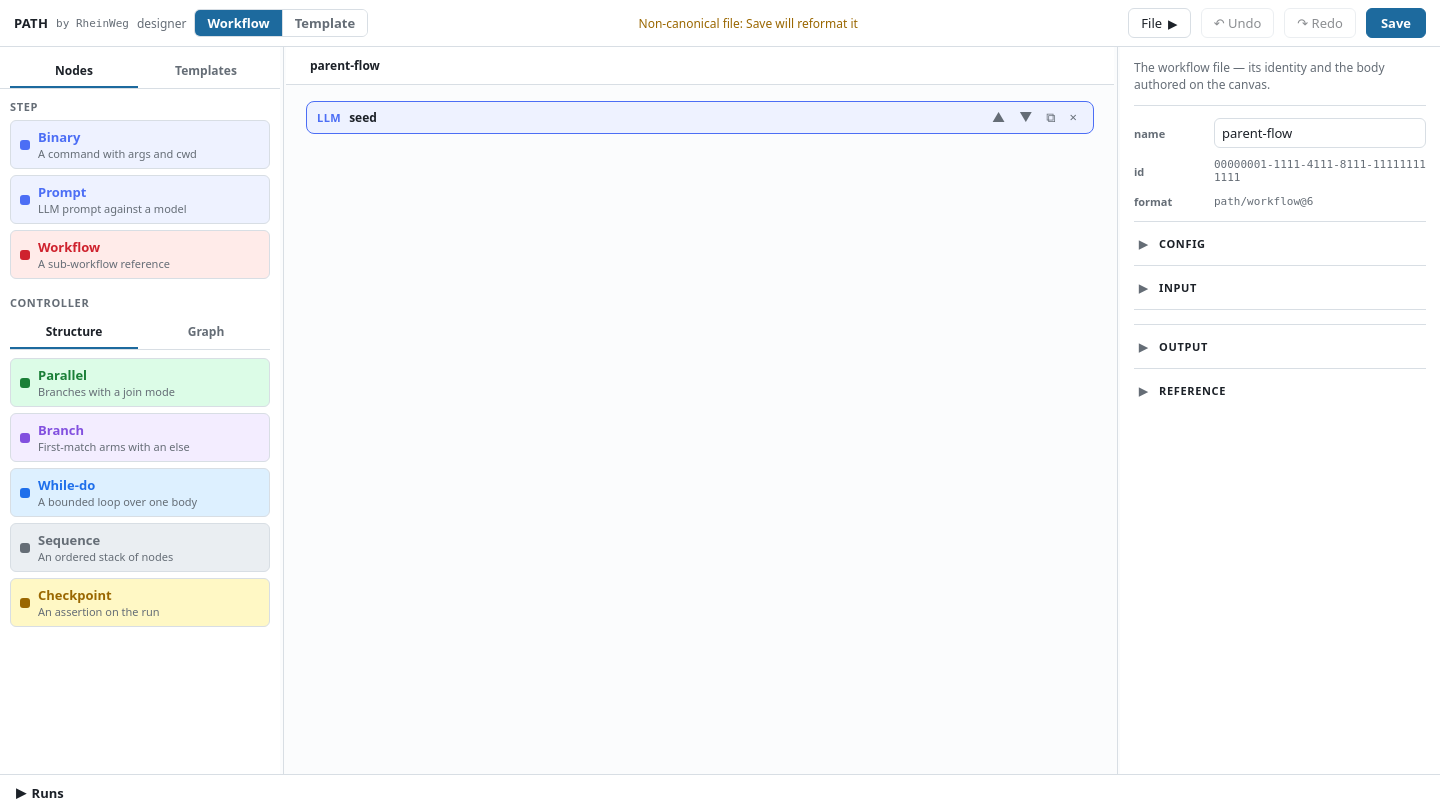
Test: adding a workflow-ref offers reference-existing or create-new › shows the two-way chooser for an empty ref node
Check: the text "seed" is shown, box [349, 109, 377, 126]
Click the text "Workflow" at (69, 247), box [38, 238, 100, 256]
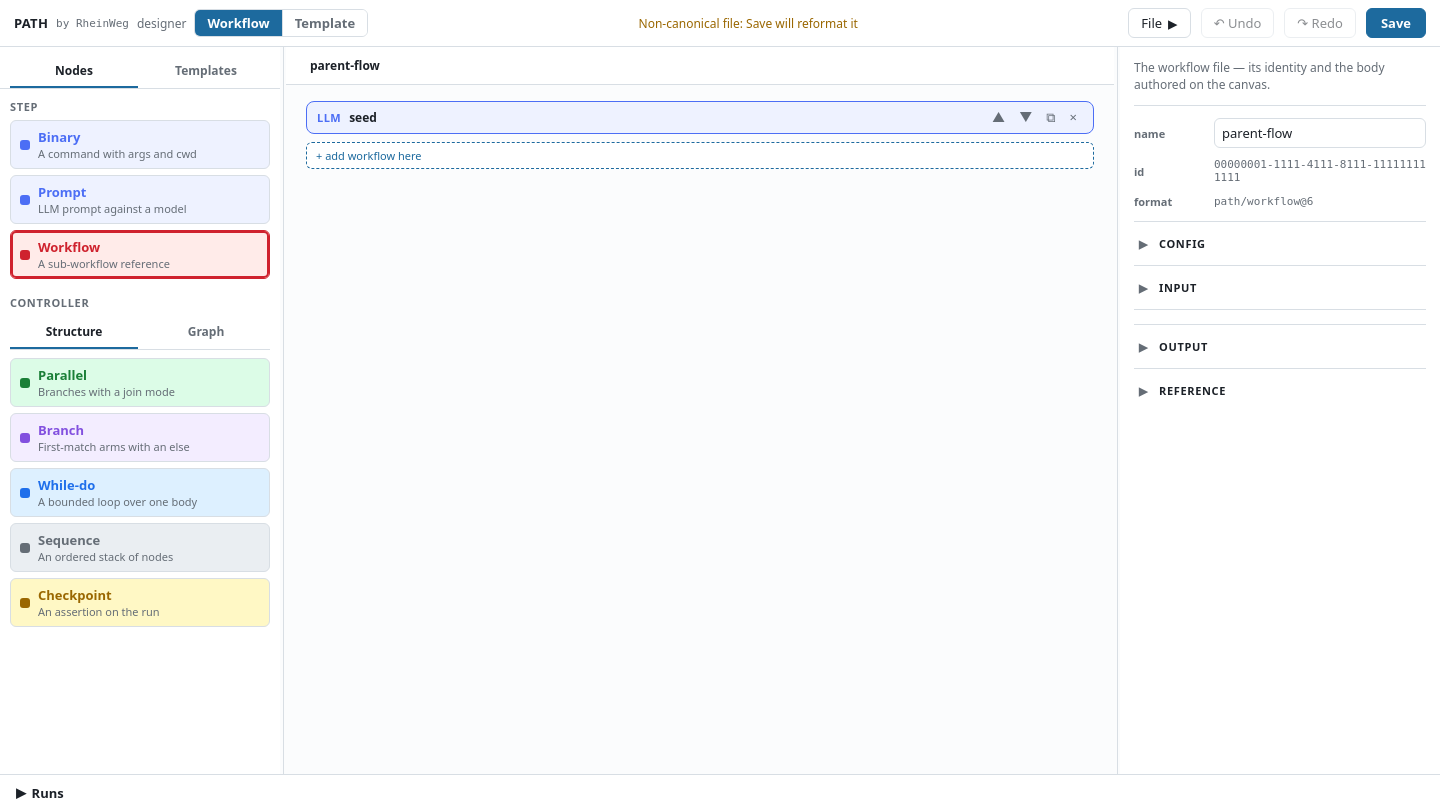
Click the button "+ add workflow here" at (369, 156), box [306, 142, 1094, 169]
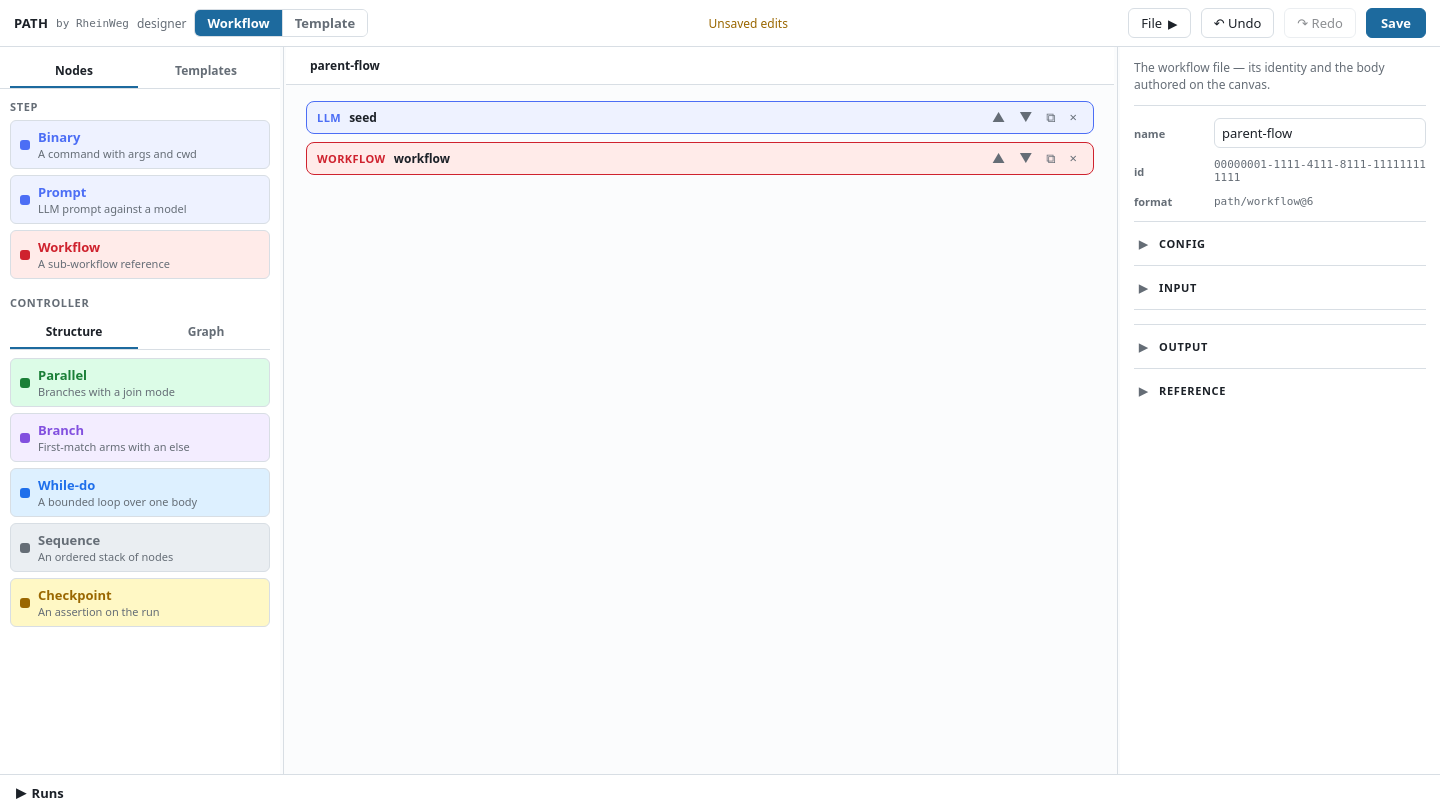
Click the button "WORKFLOW workflow ▲ ▼ ⧉ ×" at (351, 158), box [306, 142, 1094, 175]
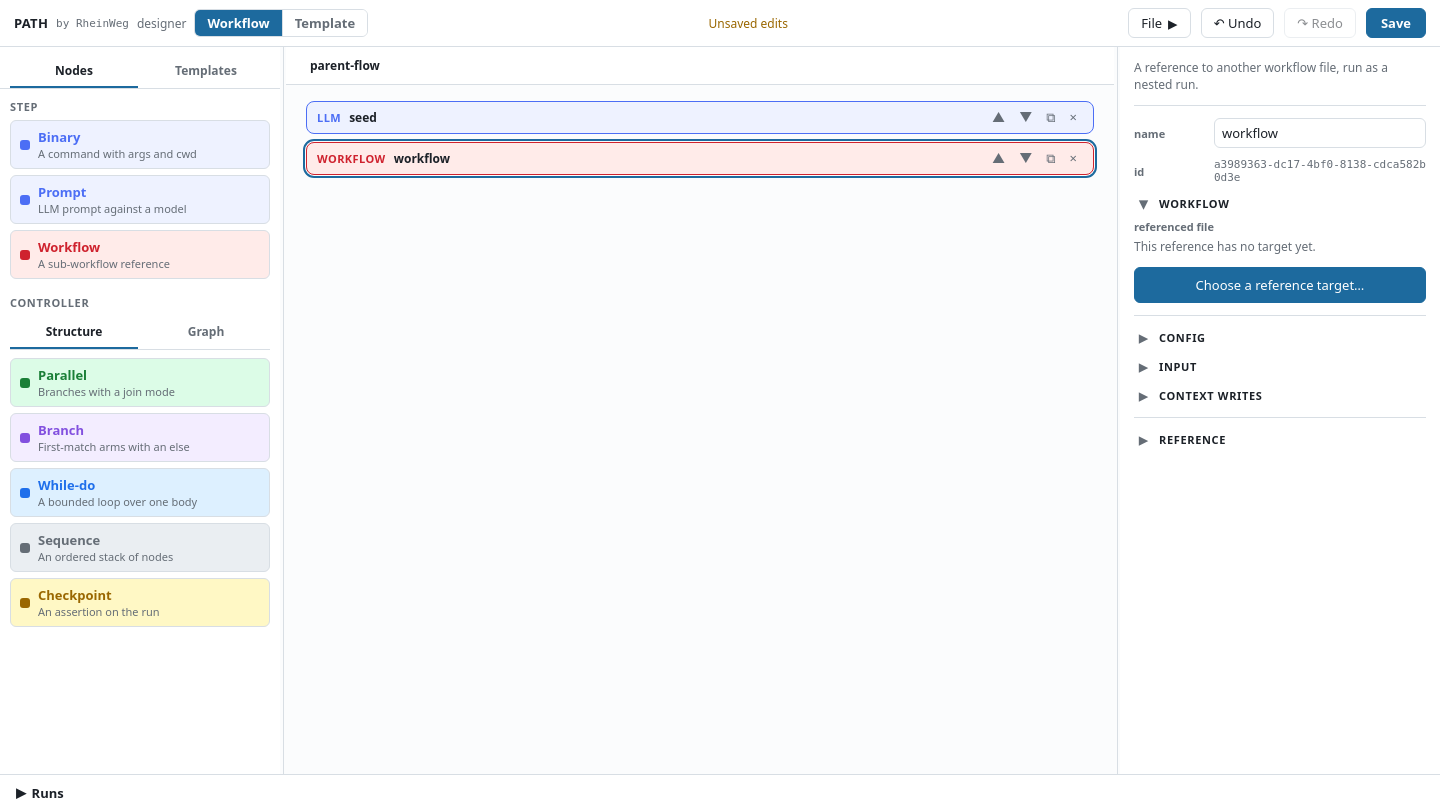
Click the button "Choose a reference target…" at (1280, 285), box [1134, 267, 1426, 303]
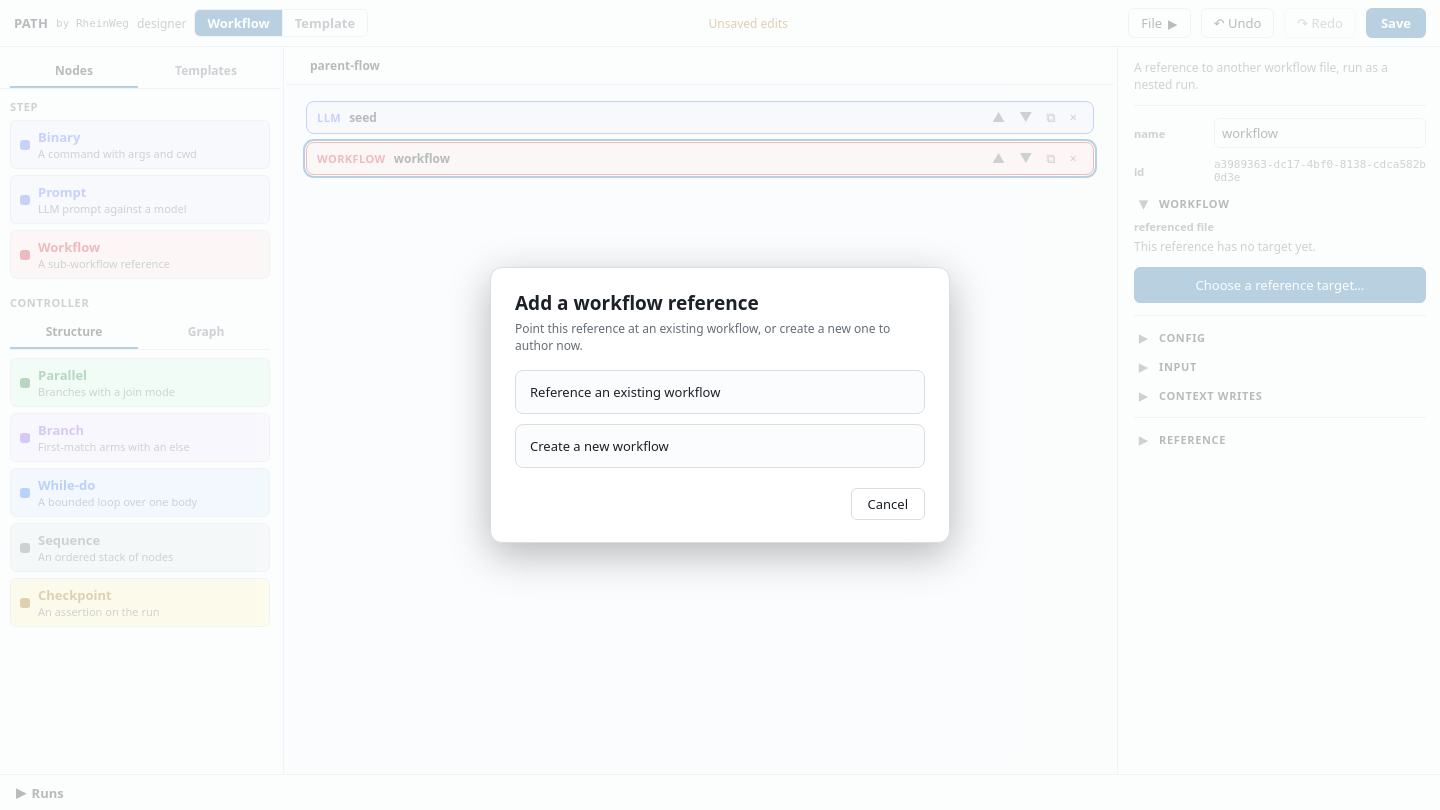
Check: the button "Reference an existing workflow" is shown, box [515, 370, 925, 414]
Check: the button "Create a new workflow" is shown, box [515, 424, 925, 468]
